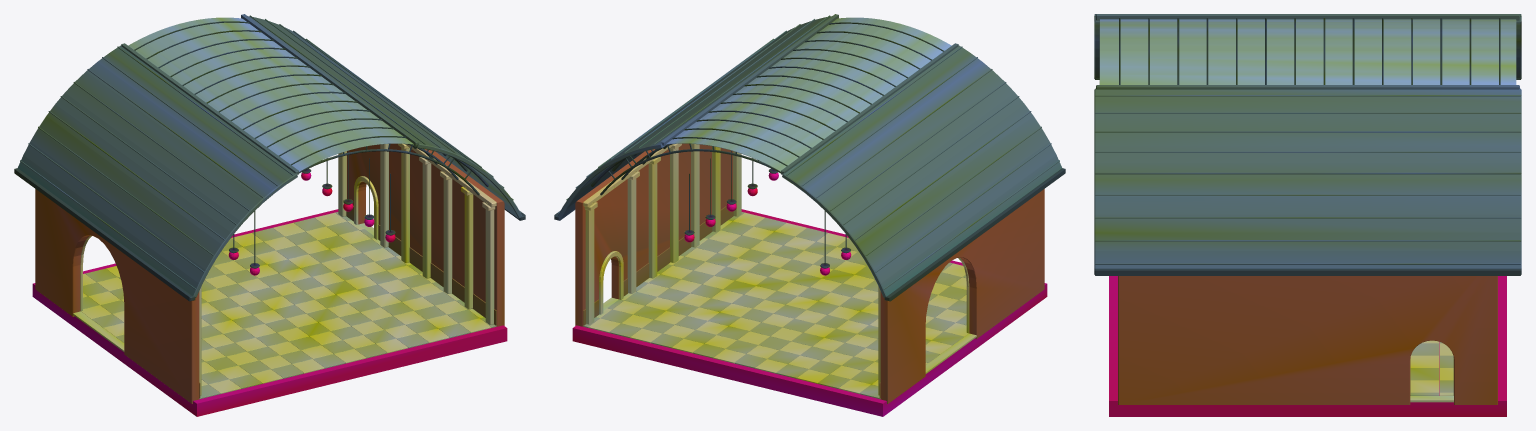
Rendered from GS_Hall_Shell.glb.
The picture shows the model from 3 angles, left to right: view 1: azimuth 30°, elevation 25°; view 2: azimuth 150°, elevation 25°; view 3: azimuth 270°, elevation 25°; orthographic projection. The views are drawn at different scales.
Visible parts, largest first — view 1: GS_Hall_Shell; view 2: GS_Hall_Shell; view 3: GS_Hall_Shell.
Boxes of the visible parts, box(x1,y1,x2,y2) form: GS_Hall_Shell: box(14, 14, 525, 416); GS_Hall_Shell: box(554, 14, 1065, 416); GS_Hall_Shell: box(1094, 14, 1521, 416).
Bounding box in the file's own units: 25.79 × 17.22 × 23.4.
